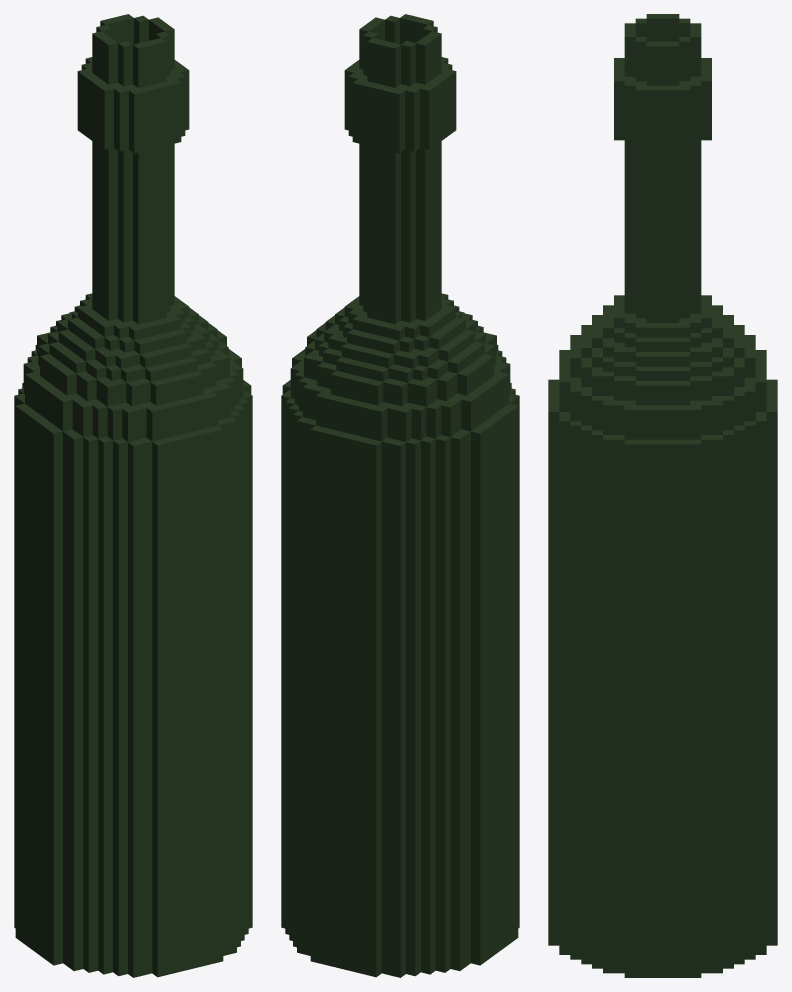
File: redwinebottle.obj
The picture shows the model from 3 angles, left to right: view 1: azimuth 30°, elevation 25°; view 2: azimuth 150°, elevation 25°; view 3: azimuth 270°, elevation 25°; orthographic projection.
Size of the model in its own units: 21 by 91 by 21.
1 material, 1 textured.
